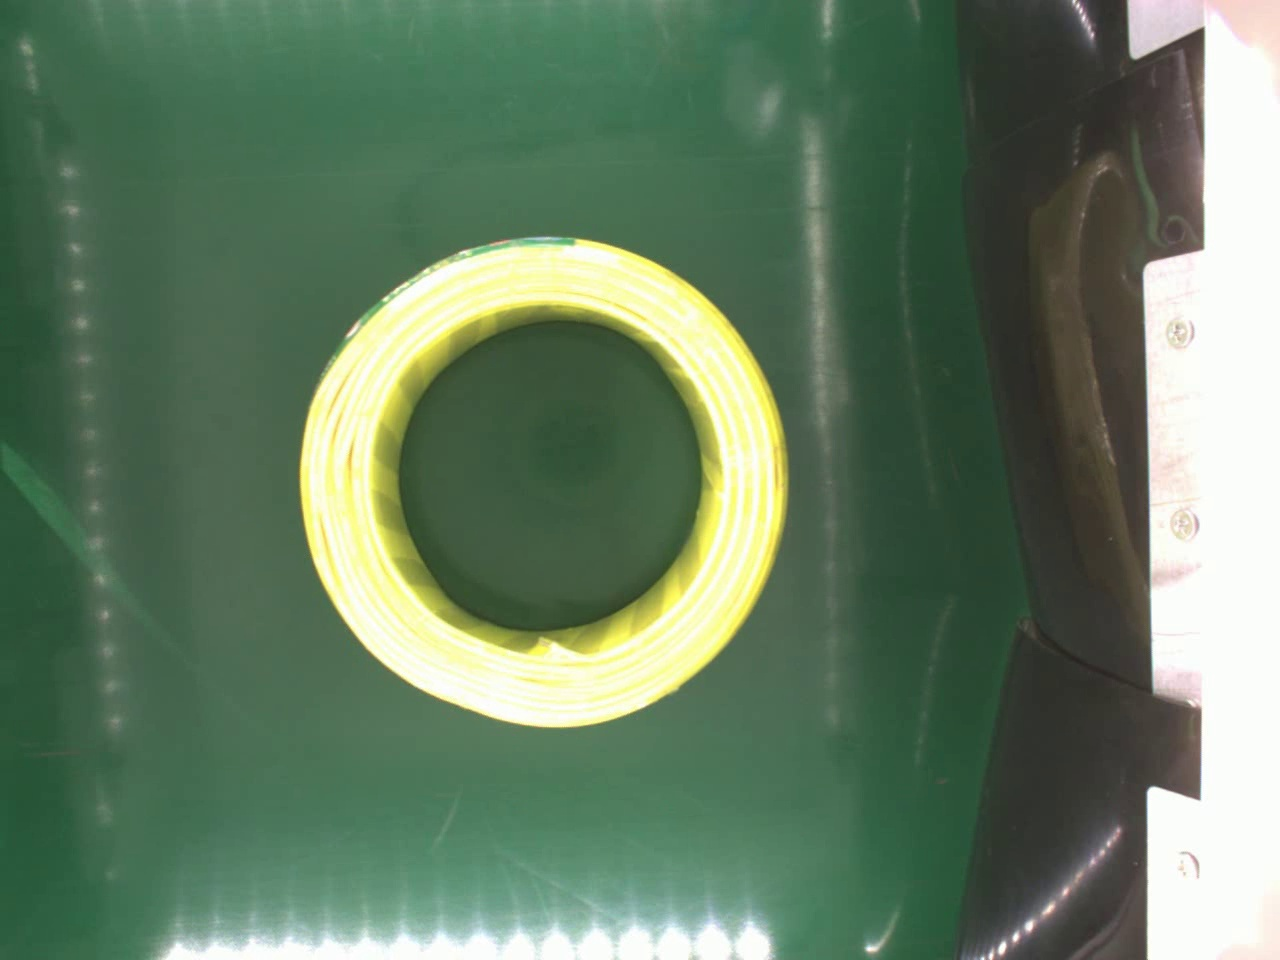yellow: (301, 232, 793, 730)
